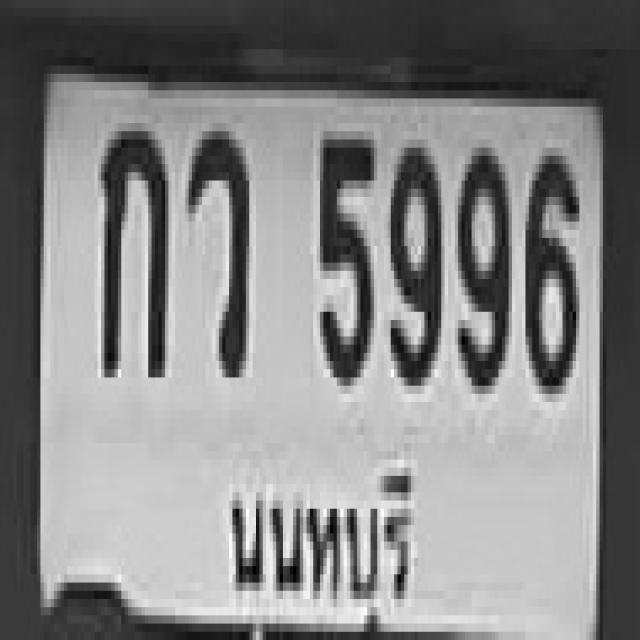10GorGai: (98, 119, 165, 365)
46WorWaen: (185, 119, 246, 365)
5: (316, 128, 371, 374)
6: (522, 144, 576, 382)
9: (455, 136, 505, 382), (387, 136, 438, 374)
Nonthaburi: (220, 451, 420, 637)
